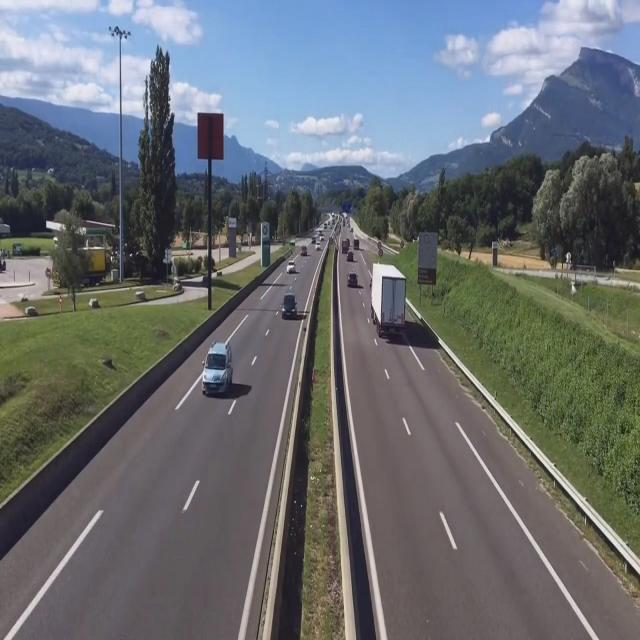car: (202, 342, 234, 398), (282, 289, 298, 321), (347, 270, 359, 289)
truck: (369, 260, 407, 346)
